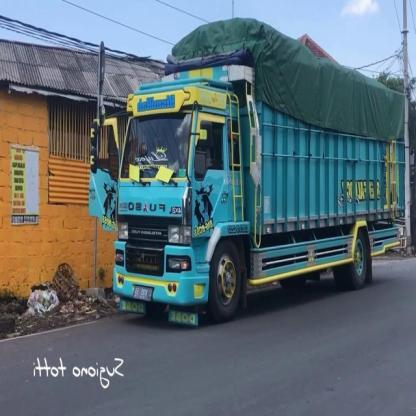truck: (90, 61, 409, 332)
